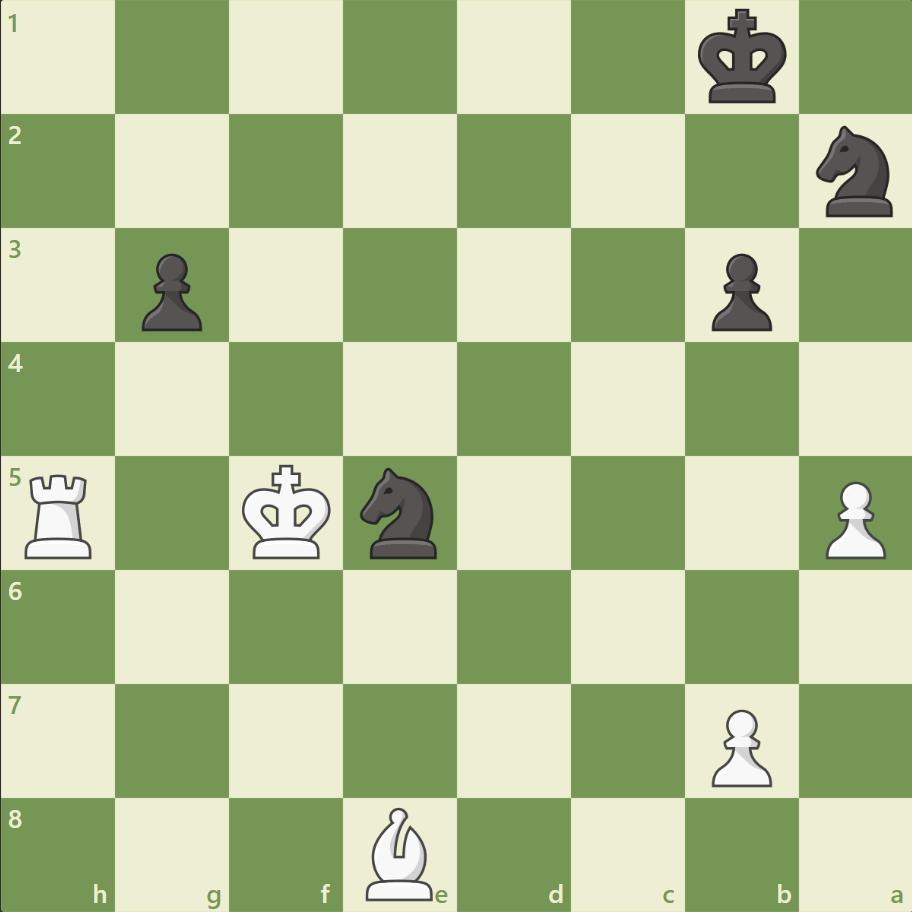B: (358, 801, 442, 904)
K: (238, 458, 338, 566)
P: (701, 700, 776, 791), (815, 473, 889, 564)
R: (19, 466, 102, 563)
k: (692, 4, 792, 112)
n: (351, 461, 449, 564), (806, 121, 903, 223)
p: (701, 246, 776, 337), (133, 246, 208, 337)
